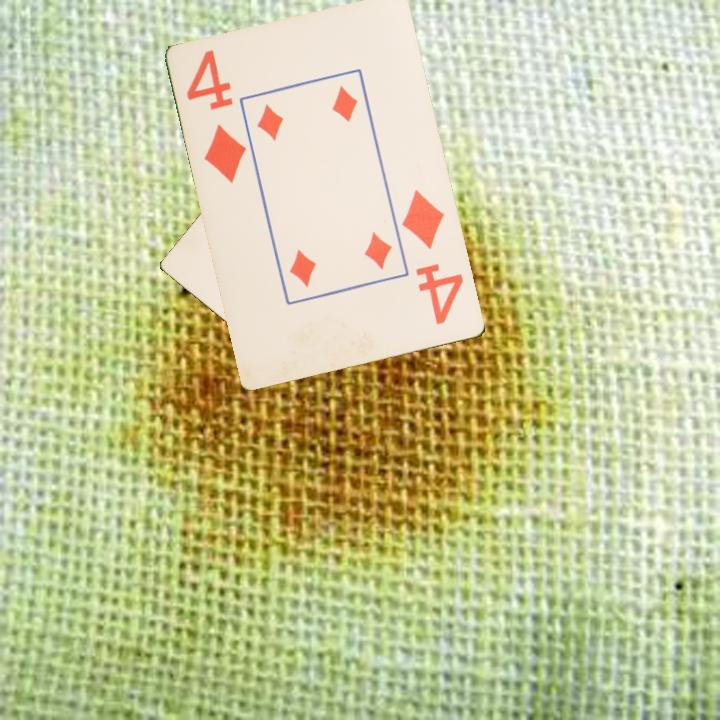4d: (398, 186, 467, 328), (183, 46, 250, 187)
